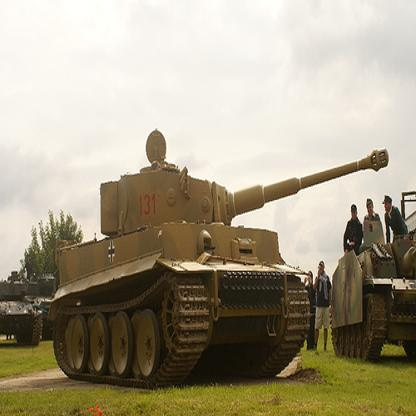Tank: (45, 126, 391, 389)
